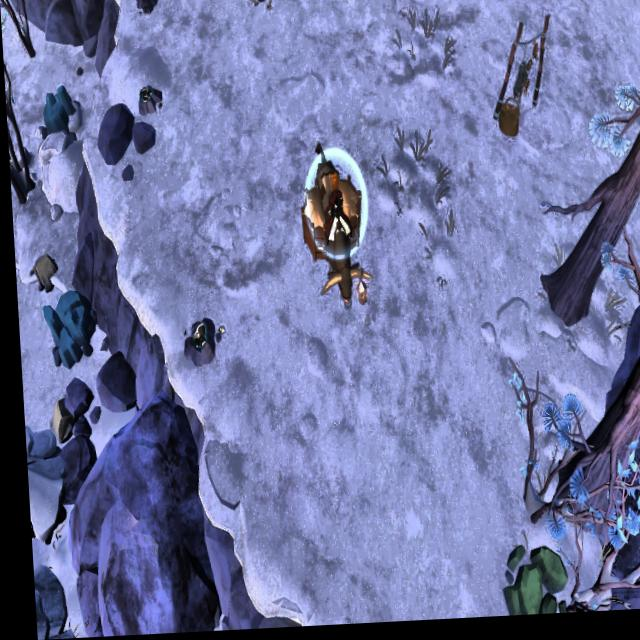rock_t3: (491, 531, 564, 621)
rock_t4: (38, 283, 96, 368), (33, 85, 80, 144)
